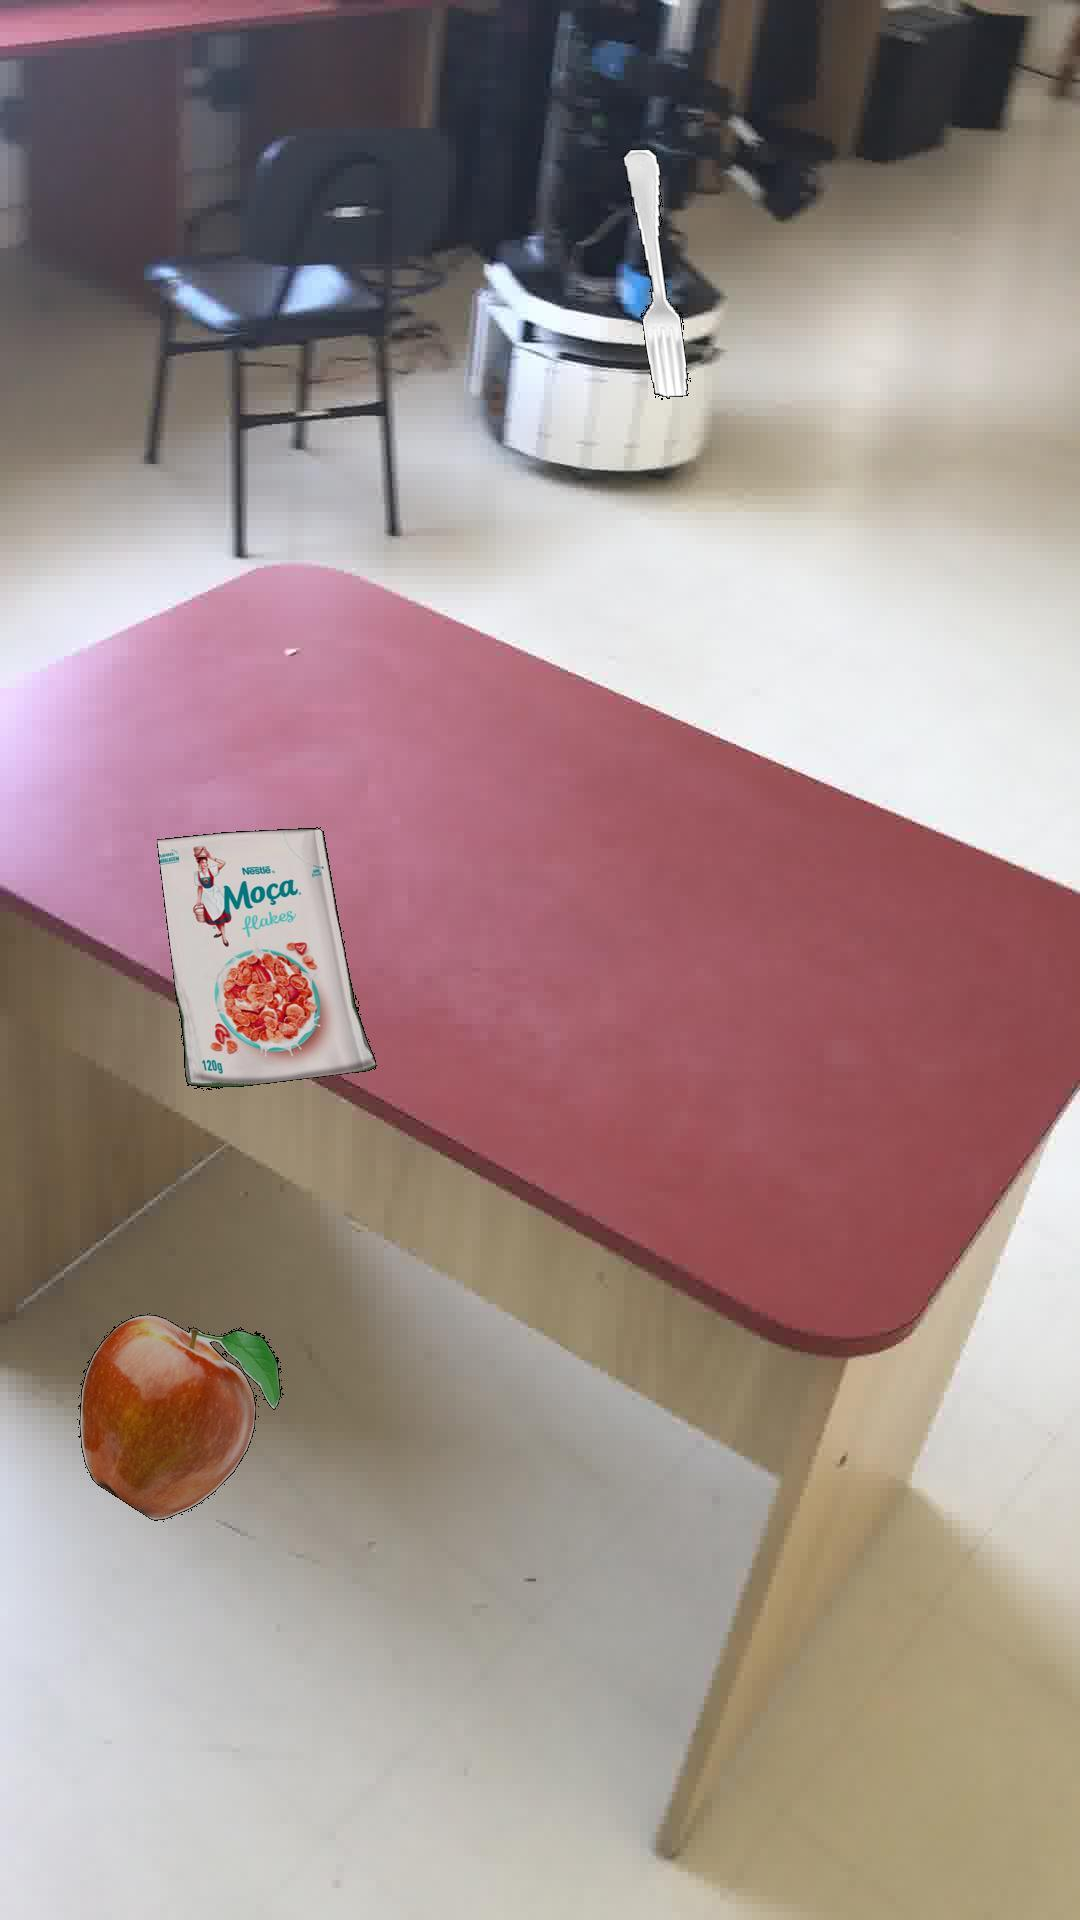apple: (76, 1312, 281, 1519)
corn flakes: (156, 827, 375, 1088)
fork: (621, 148, 687, 397)
